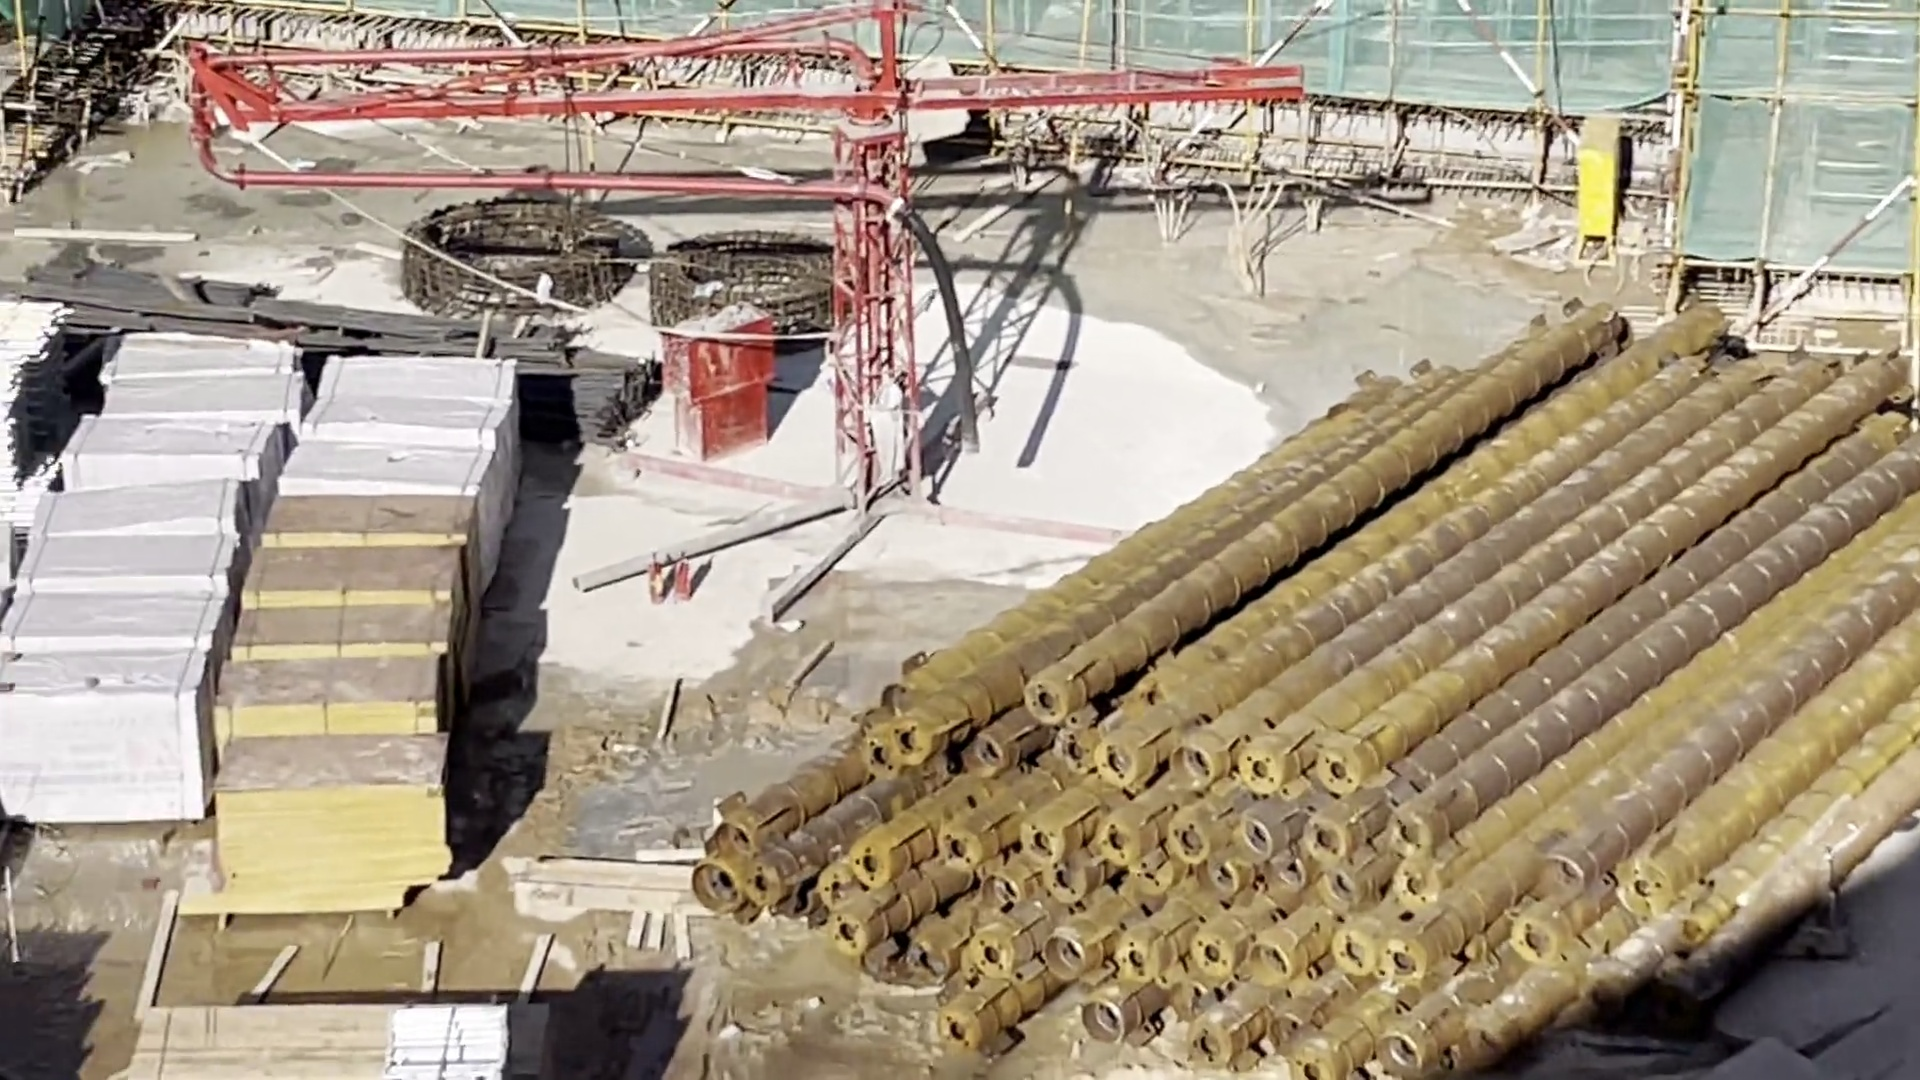board: (237, 497, 451, 905), (136, 1007, 380, 1080)
ebox: (1575, 116, 1625, 256)
rebar: (154, 297, 651, 433)
scaffold: (397, 1004, 506, 1080)
